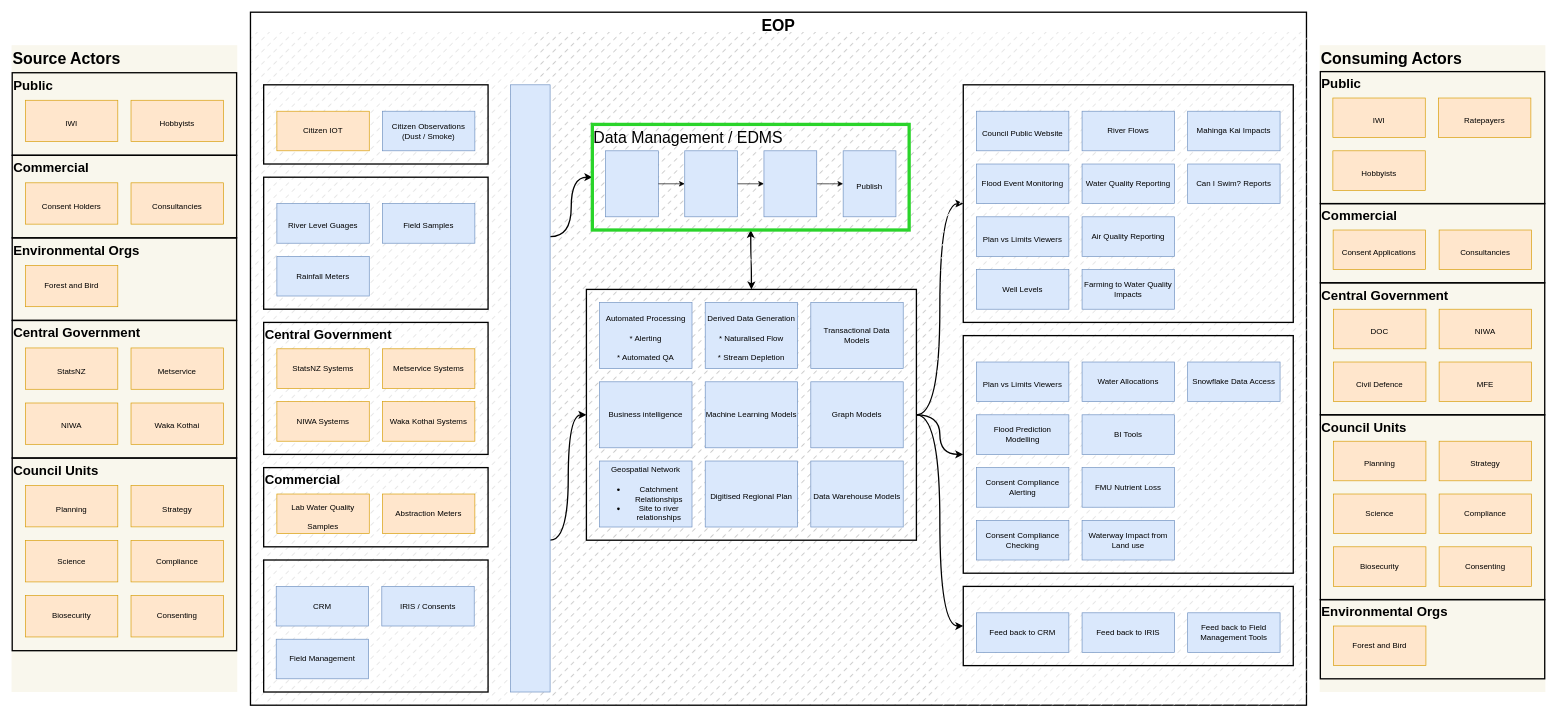
This 1556x717 diagram has some shape labels left out. Here are the shapes that lost their labels. From the top down, the box of each, then its label:
(263, 84, 488, 164): Citizen Sources
(605, 150, 658, 217): Receipt / Stage
(684, 150, 738, 217): Store
(763, 150, 817, 217): QA
(962, 84, 1294, 323): External Applications
(263, 176, 488, 310): Regional Sector IOT
(250, 32, 534, 705): Inputs
(510, 84, 550, 692): Acquisition
(534, 32, 937, 705): Processing / Storage
(937, 32, 1306, 705): Outputs / Outcomes
(962, 335, 1294, 574): Internal Applications
(263, 559, 488, 692): Internal Operational Systems
(962, 585, 1294, 666): Feeds out of EOP
